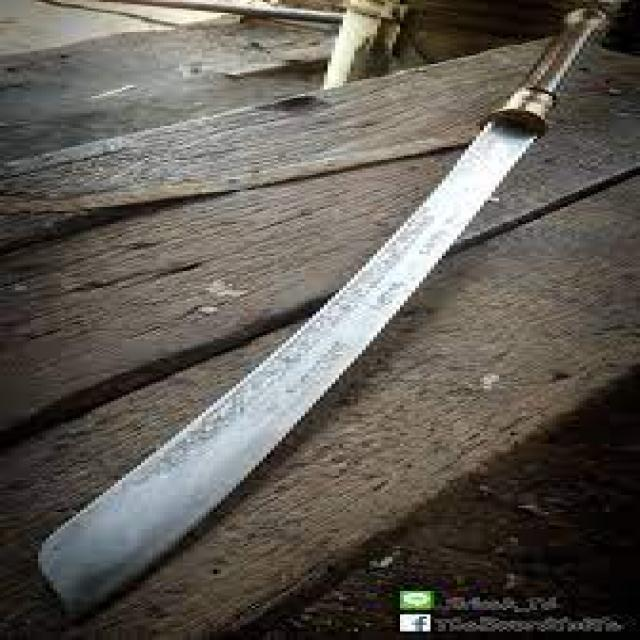long sword: (13, 3, 615, 606)
